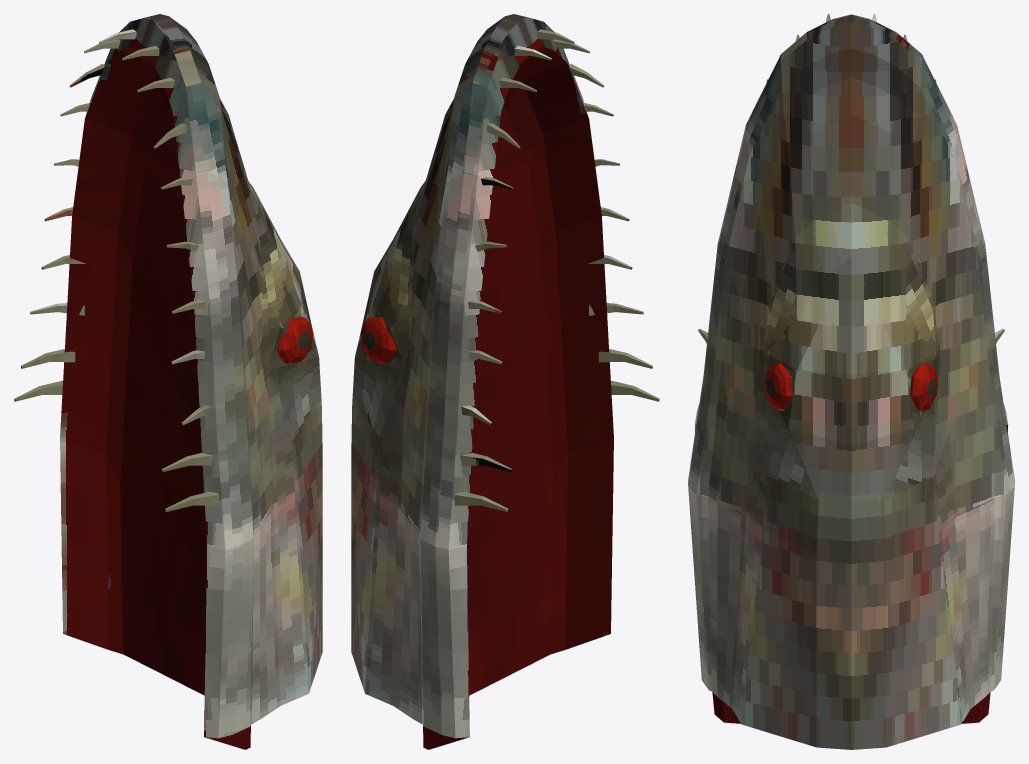
Rendered from PikeTop.glb.
The picture shows the model from 3 angles, left to right: view 1: azimuth 30°, elevation 25°; view 2: azimuth 150°, elevation 25°; view 3: azimuth 270°, elevation 25°; orthographic projection.
Parts seen in each view (by area): view 1: TopPike.003; view 2: TopPike.003; view 3: TopPike.003.
Part boxes in pixels (left/top/right/bottom): TopPike.003: left=14, top=14, right=322, bottom=749; TopPike.003: left=351, top=14, right=659, bottom=749; TopPike.003: left=688, top=14, right=1014, bottom=749.
Size of the model in its own units: 14.19 by 41.6 by 17.81.
Materials: 1 (1 with a texture image).
